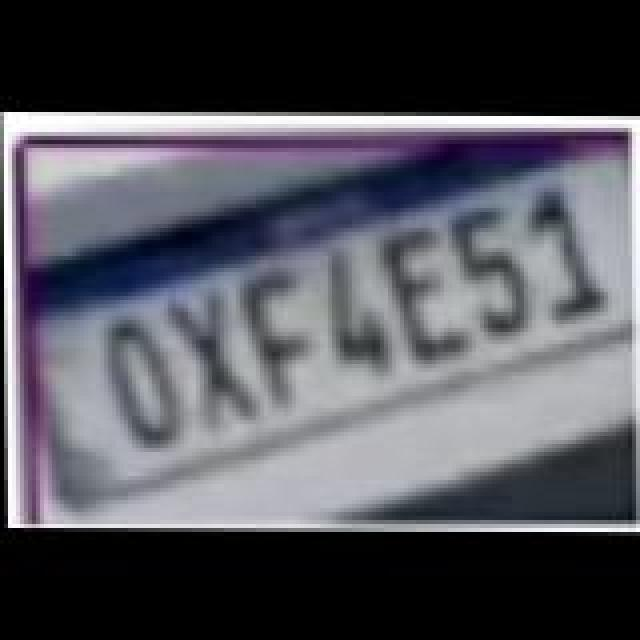1: (524, 194, 608, 326)
4: (322, 250, 398, 378)
5: (452, 208, 532, 340)
E: (384, 230, 472, 366)
F: (242, 272, 318, 412)
O: (102, 324, 186, 452)
X: (170, 296, 262, 436)
